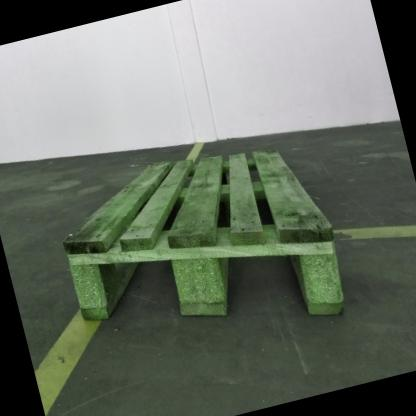BoxFace: (58, 144, 351, 327)
